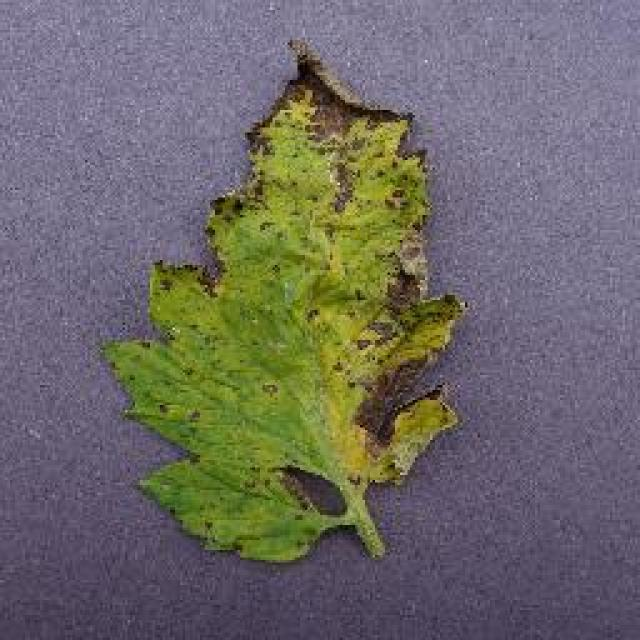Tomato___Septoria_leaf_spot: (105, 42, 465, 560)
